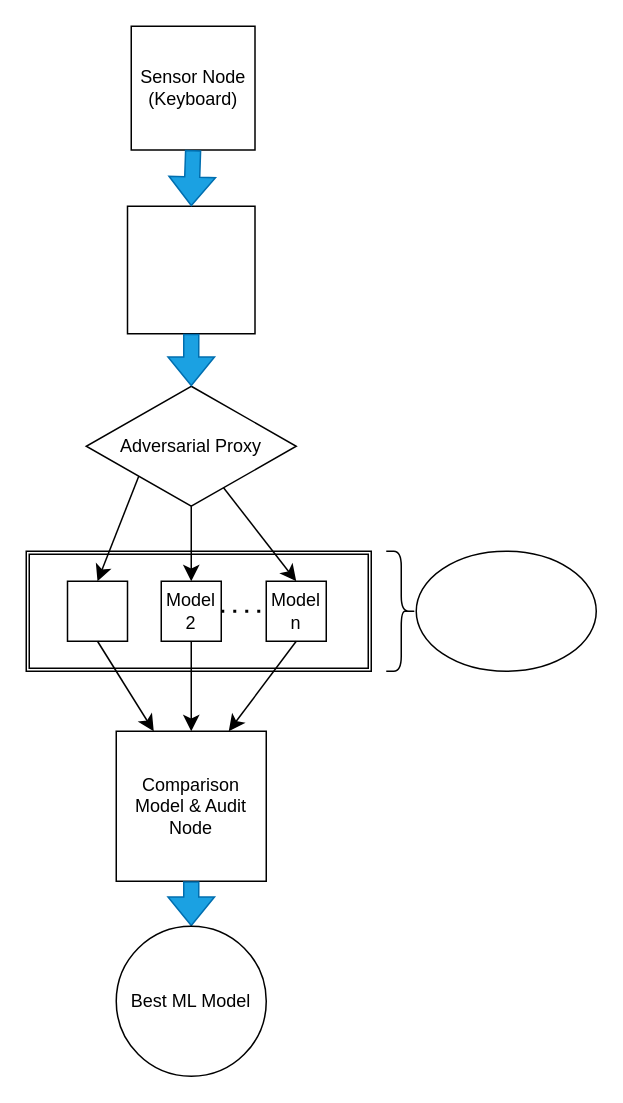
The diagram is 623 pixels wide and 1103 high, and some of its shapes have lost their labels. Here are the shapes that lost their labels. From the top down, the box of each, then its label:
(126, 205, 255, 334): Text-to-Audio Converter
(66, 580, 128, 641): Model 1
(415, 550, 596, 671): ML Classifier Engine
